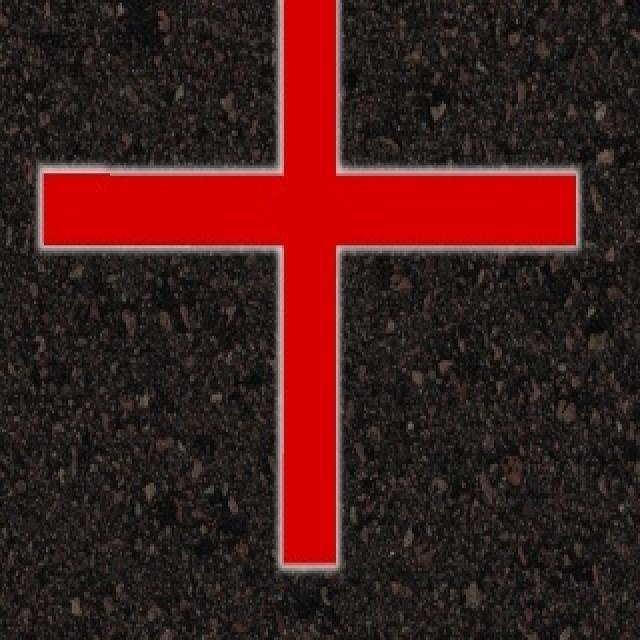x_marker: (41, 0, 575, 563)
